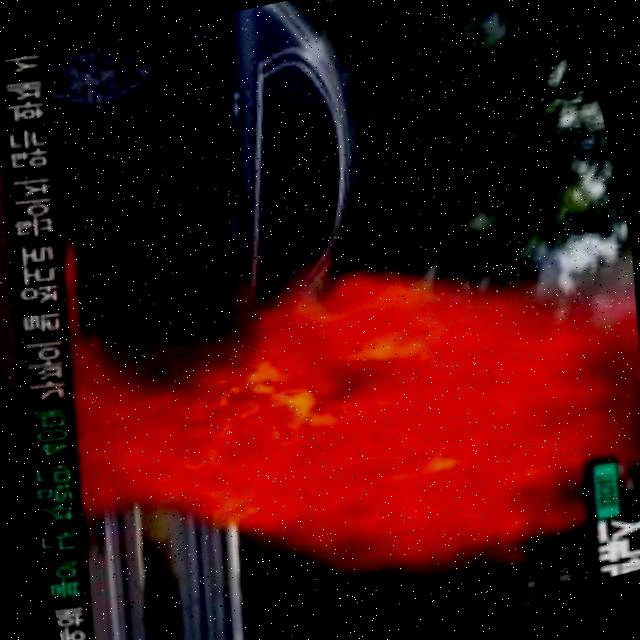fire: (60, 272, 640, 631), (25, 235, 115, 417)
